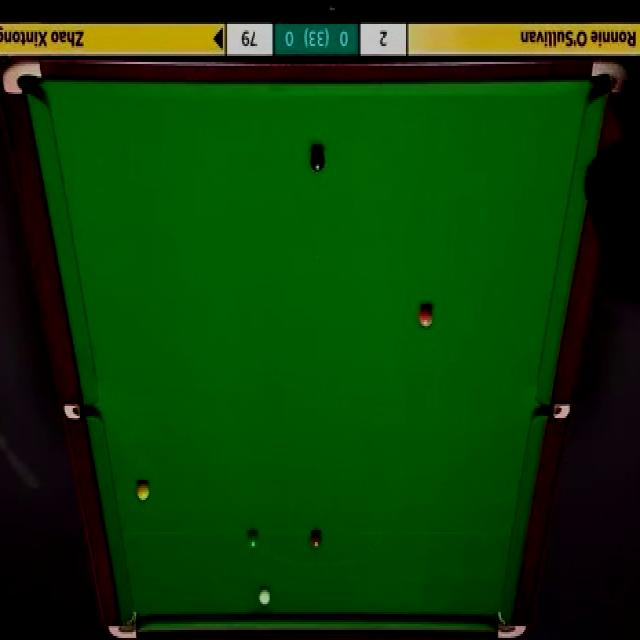pocket: (3, 57, 43, 98), (589, 62, 634, 98), (494, 606, 530, 640), (108, 608, 141, 640), (64, 403, 100, 422), (538, 403, 574, 420)
